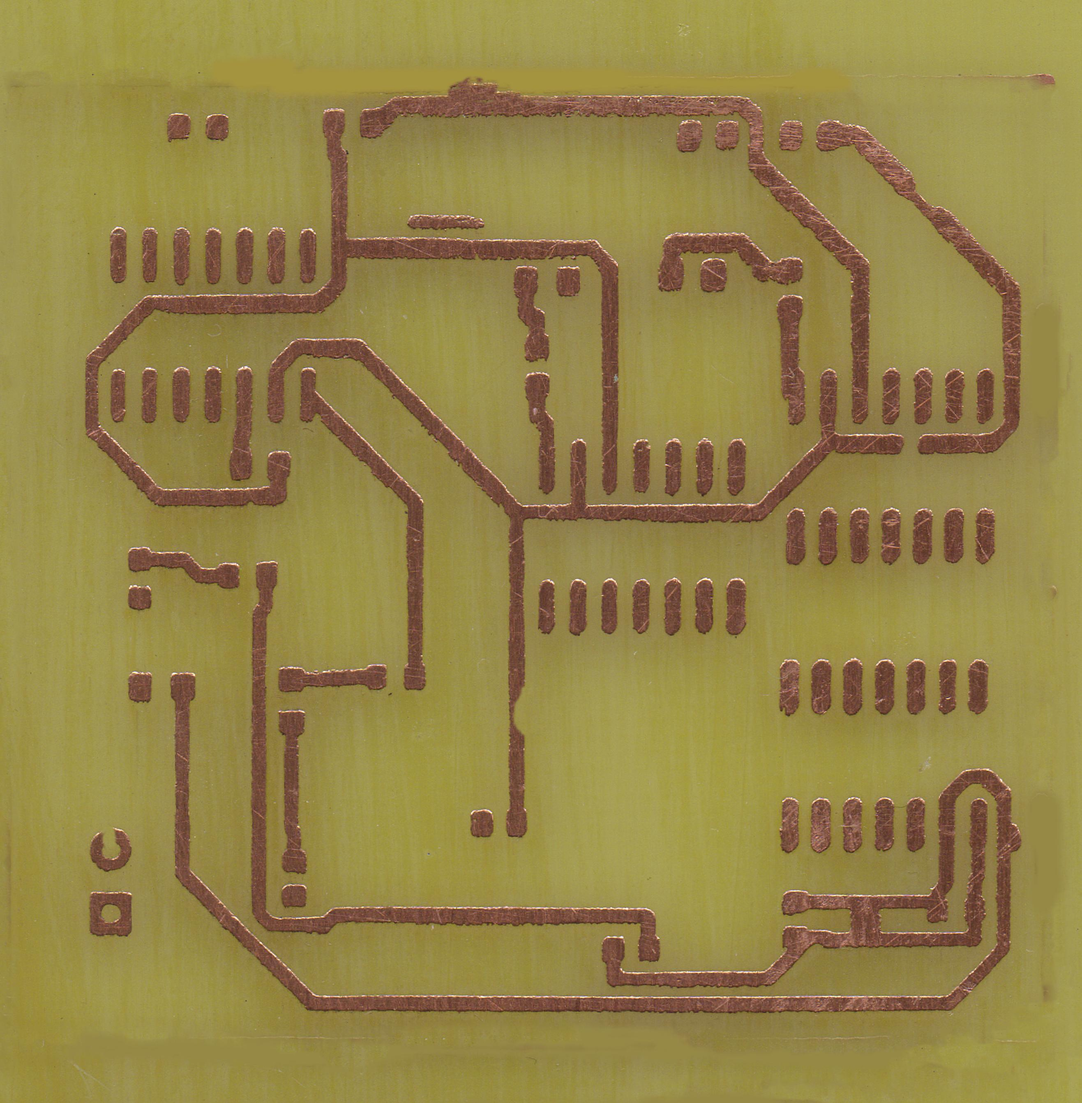missing_hole: (87, 829, 136, 874)
mouse_bite: (902, 176, 945, 218), (505, 682, 533, 741)
open_circuit: (890, 429, 934, 460)
short: (843, 890, 887, 955)
spur: (443, 76, 509, 122), (994, 821, 1023, 863)
spurious_copper: (404, 210, 489, 231)
